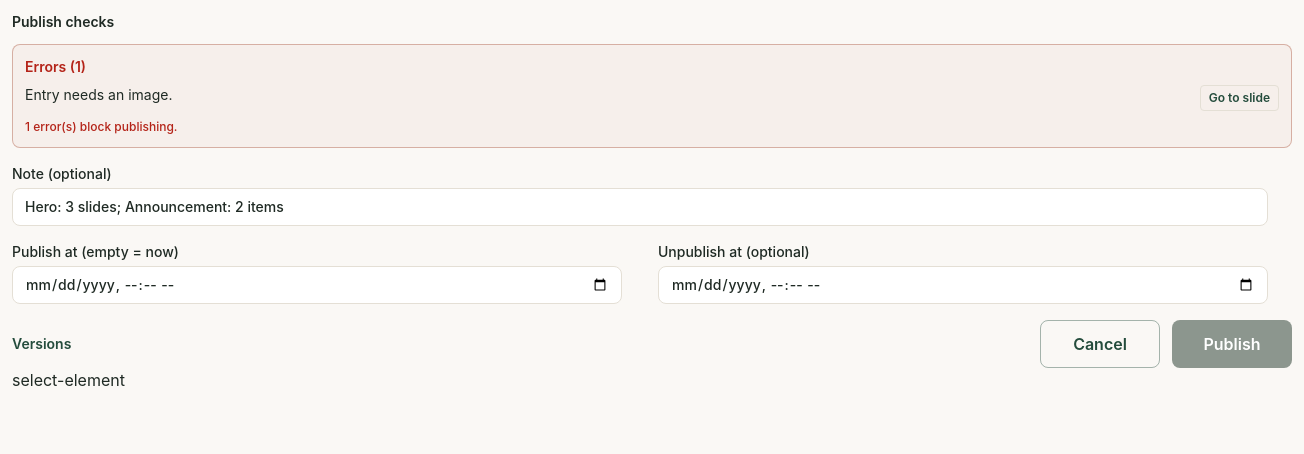
Scenario: PublishPanel › ignores unknown or selector-like entry ids safely: removed-entry
Click the button "Go to slide".
click(1239, 98)  # box [1200,85,1279,111]
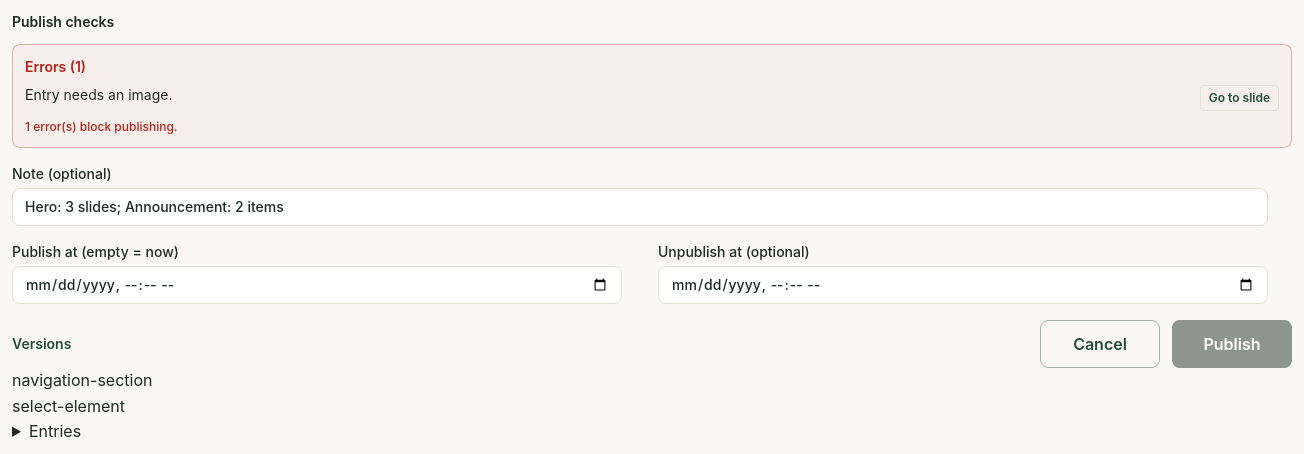
Now the text with test id "selected-section" reads "navigation-section", box [12,370,152,390]
